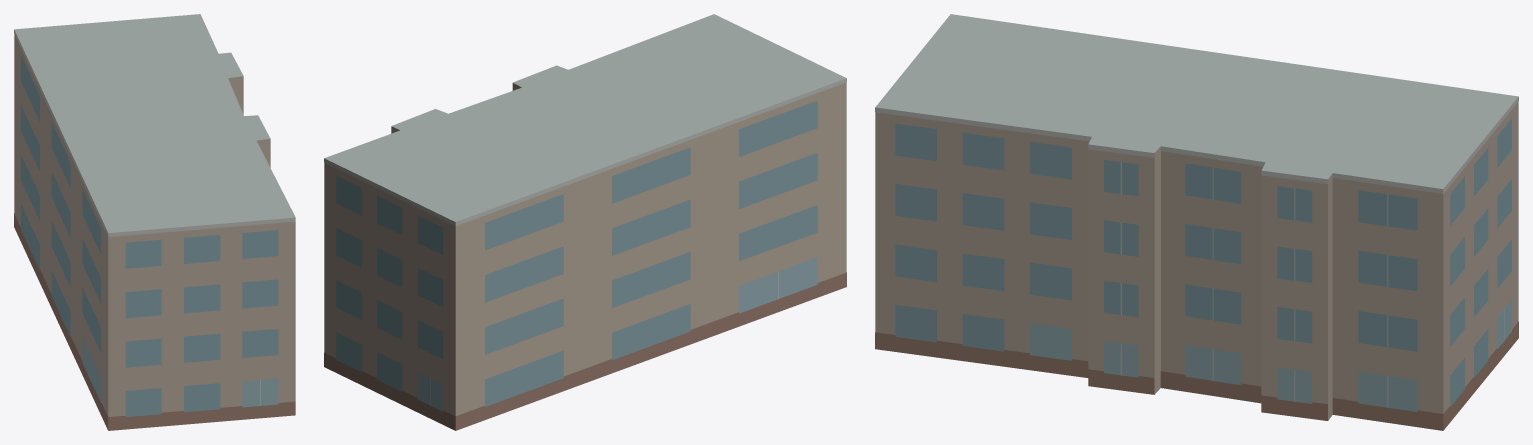
Rendered from survey-upis-32512519.glb.
3 renders of one model, left to right at view 1: azimuth 30°, elevation 25°; view 2: azimuth 150°, elevation 25°; view 3: azimuth 270°, elevation 25°, orthographic. The views are drawn at different scales.
Visible parts, largest first — view 1: survey-upis-32512519.tmp; view 2: survey-upis-32512519.tmp; view 3: survey-upis-32512519.tmp.
Boxes of the visible parts, x1,y1,x2,y2 form: survey-upis-32512519.tmp: (14,14,295,430); survey-upis-32512519.tmp: (324,14,846,430); survey-upis-32512519.tmp: (875,14,1518,430).
Bounding box in the file's own units: 18.97 × 12.2 × 29.45.
